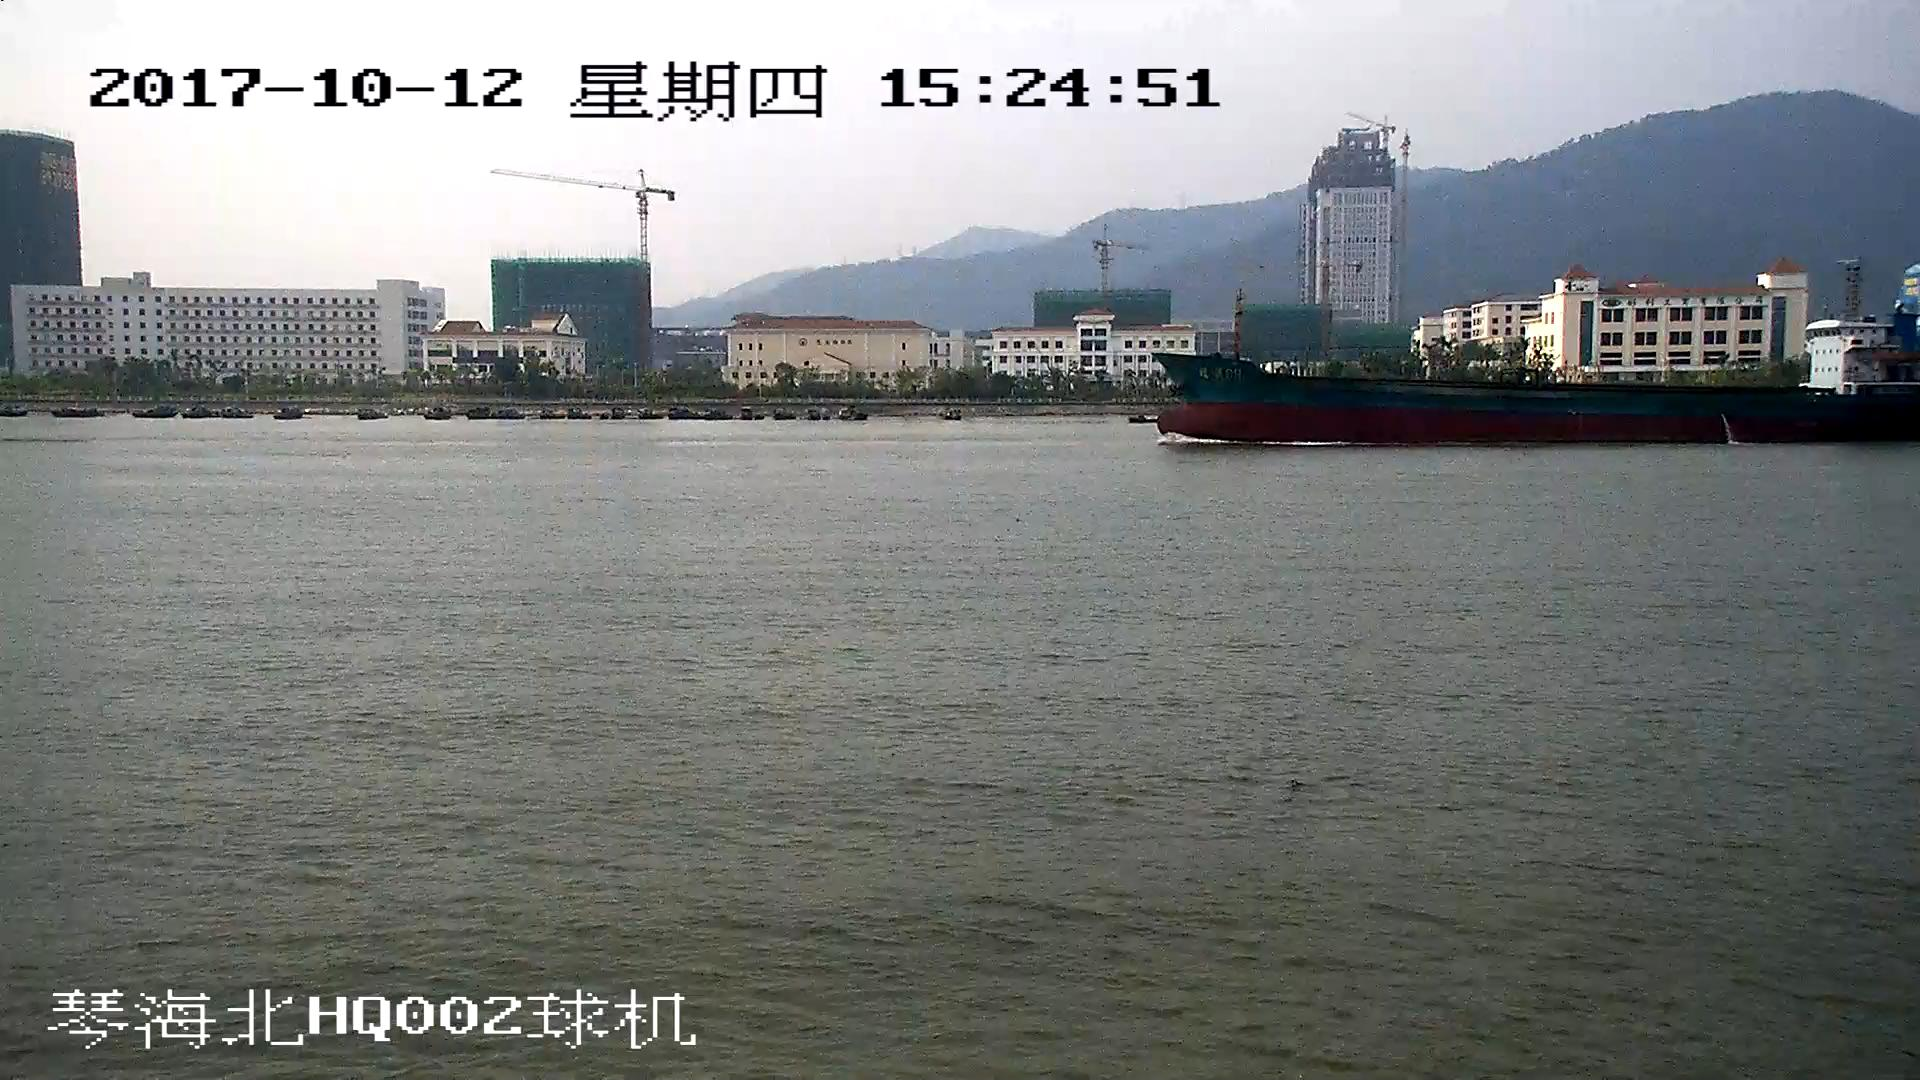general cargo ship: (1156, 317, 1920, 439)
